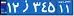character: (31, 1, 42, 14), (47, 1, 57, 14), (21, 1, 30, 15), (12, 1, 19, 16), (41, 1, 48, 15), (64, 3, 71, 16), (6, 2, 12, 14), (58, 4, 64, 15)
